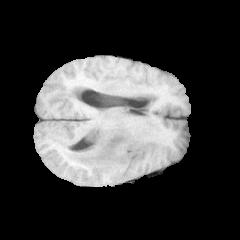glioma: (66, 126, 140, 174)
